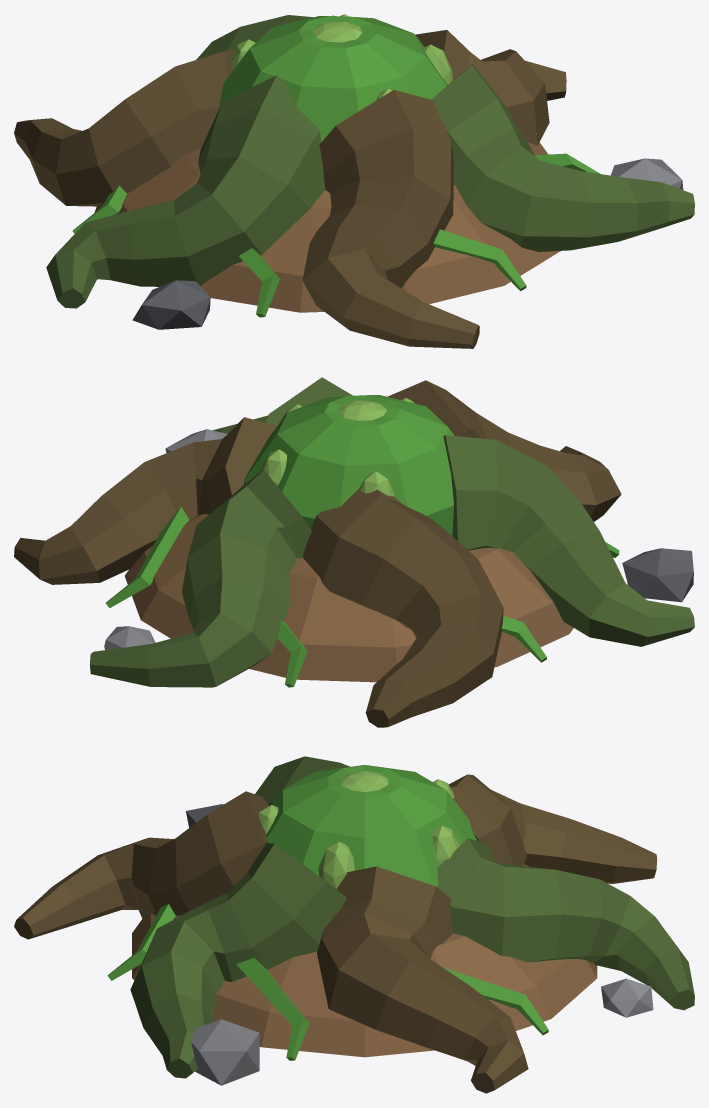
Rendered from Decor_Beanstalk_Roots.fbx.
3 views of the same model, one above another, from view 1: azimuth 30°, elevation 25°; view 2: azimuth 150°, elevation 25°; view 3: azimuth 270°, elevation 25° (orthographic). The views are drawn at different scales.
Visible parts, largest first — view 1: Roots_Body; view 2: Roots_Body; view 3: Roots_Body.
Part boxes in pixels (box(x1,y1,x2,y2)): Roots_Body: box(14, 14, 694, 348); Roots_Body: box(14, 377, 694, 727); Roots_Body: box(14, 756, 694, 1093).
Bounding box in the file's own units: 29.02 × 8.8 × 29.02.
